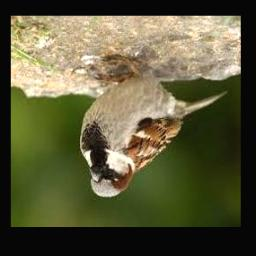Sparrow: (80, 55, 227, 197)
